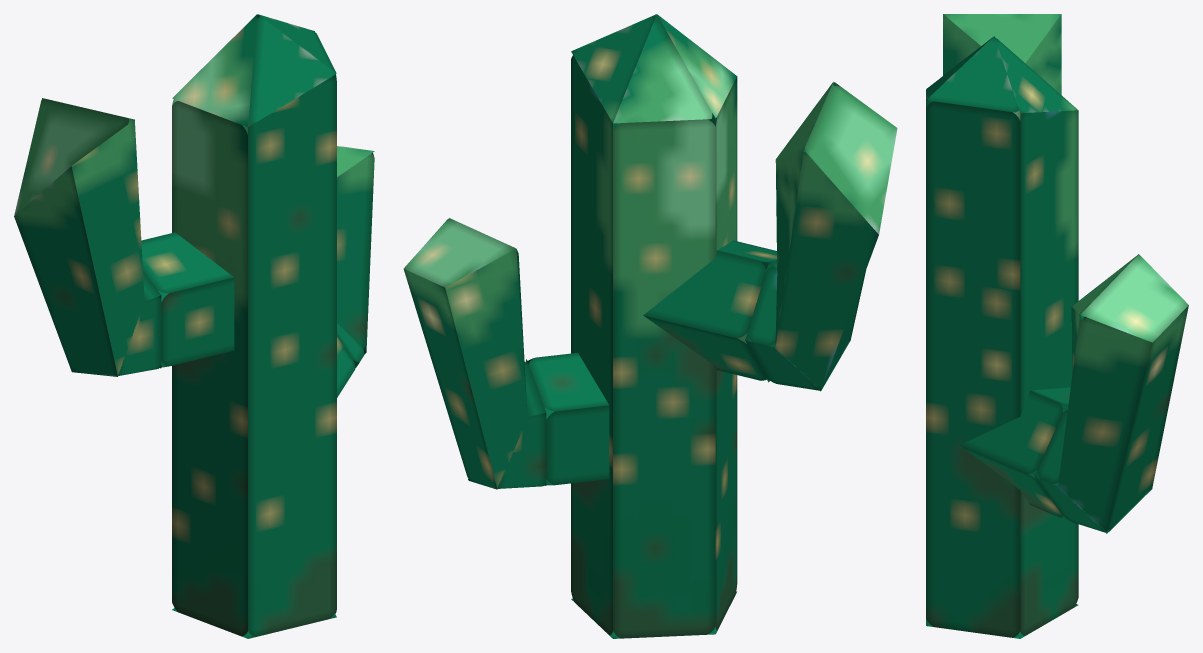
The model's file is Cactus.fbx.
3 views of the same model, side by side, from view 1: azimuth 30°, elevation 25°; view 2: azimuth 150°, elevation 25°; view 3: azimuth 270°, elevation 25° (orthographic). The views are drawn at different scales.
Parts seen in each view (by area): view 1: cylinder, cylinder_3, cylinder_1, cylinder_4, cylinder_2, cylinder_5; view 2: cylinder, cylinder_3, cylinder_4, cylinder_1, cylinder_5, cylinder_2, cylinder_6; view 3: cylinder, cylinder_4, cylinder_5, cylinder_3, cylinder_6.
Part boxes in pixels (box(x1,y1,x2,y2)): cylinder: box(172, 14, 336, 638); cylinder_3: box(14, 98, 144, 376); cylinder_1: box(141, 232, 234, 368); cylinder_4: box(337, 146, 374, 362); cylinder_2: box(71, 271, 161, 376); cylinder_5: box(337, 337, 357, 397); cylinder: box(571, 14, 737, 638); cylinder_3: box(775, 82, 897, 391); cylinder_4: box(403, 218, 527, 489); cylinder_1: box(643, 240, 776, 382); cylinder_5: box(525, 352, 609, 485); cylinder_2: box(745, 262, 850, 390); cylinder_6: box(468, 362, 546, 488); cylinder: box(926, 36, 1078, 638); cylinder_4: box(1058, 254, 1188, 533); cylinder_5: box(960, 387, 1070, 519); cylinder_3: box(943, 14, 1061, 94); cylinder_6: box(1034, 410, 1152, 533).
Size of the model in its own units: 41.07 by 57.5 by 24.08.
1 material, 1 textured.
